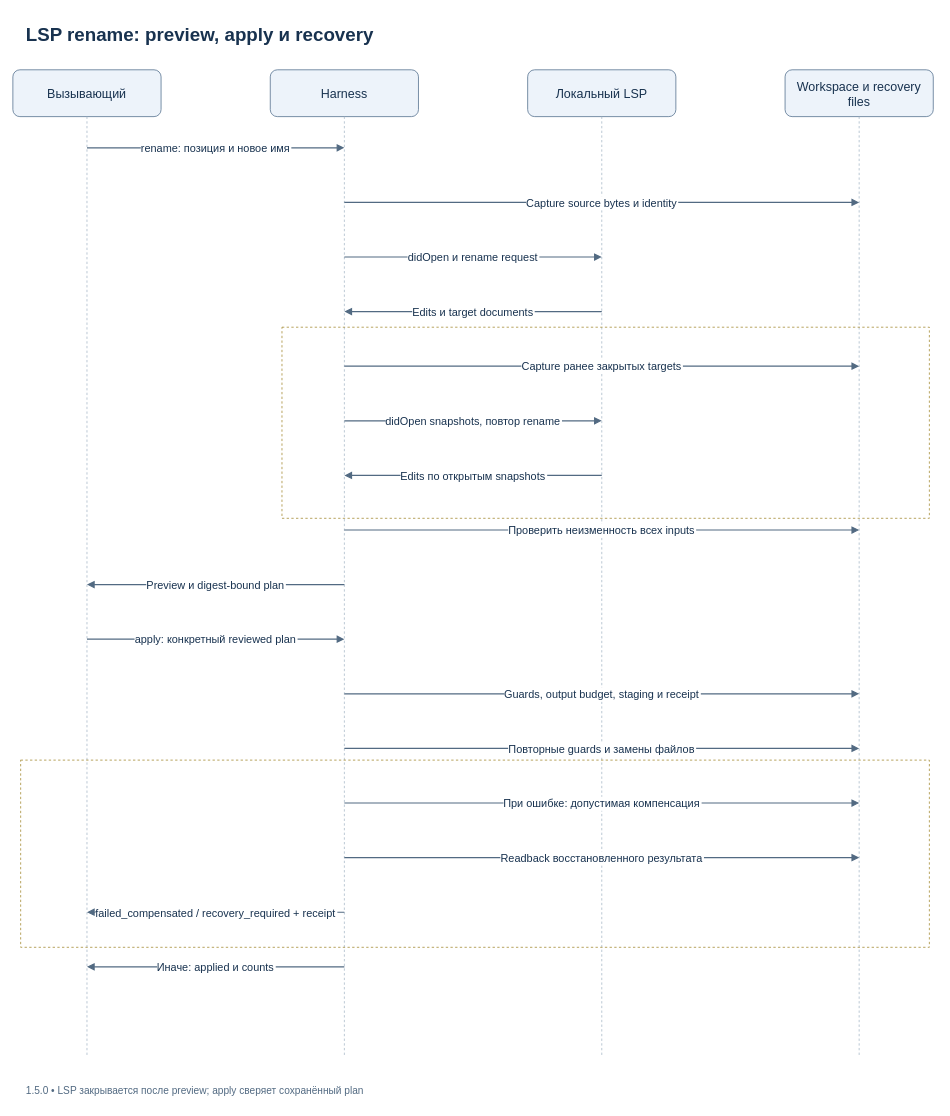
Image size: 950x1116. Some labels were removed from this diagram. Each missing label, with the box of its shape:
До трёх дополнительных проходов: только новые targets: (281, 326, 929, 518)
Условие: ошибка либо конкурентная правка: (20, 759, 929, 947)
